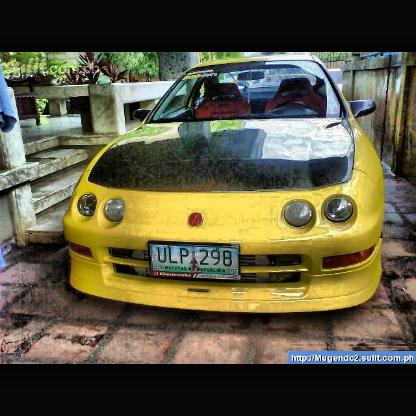Acura Integra Type R 2001: (64, 54, 390, 318)
